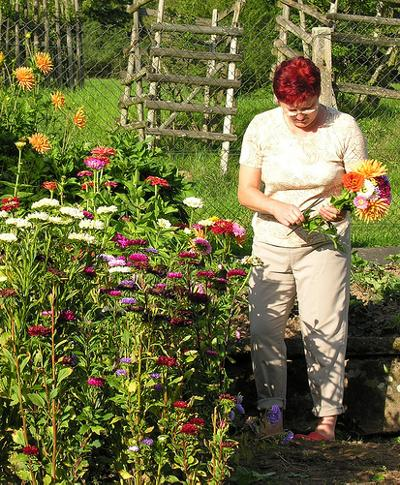person: (236, 53, 372, 448)
